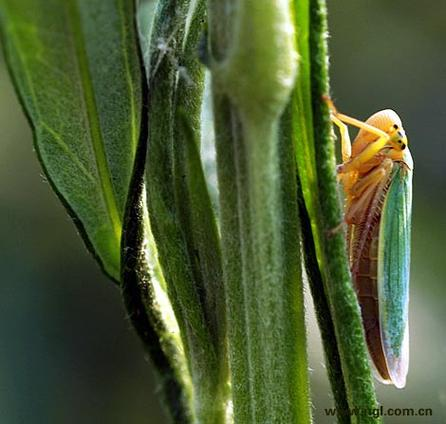Cicadellidae: (334, 105, 412, 391)
